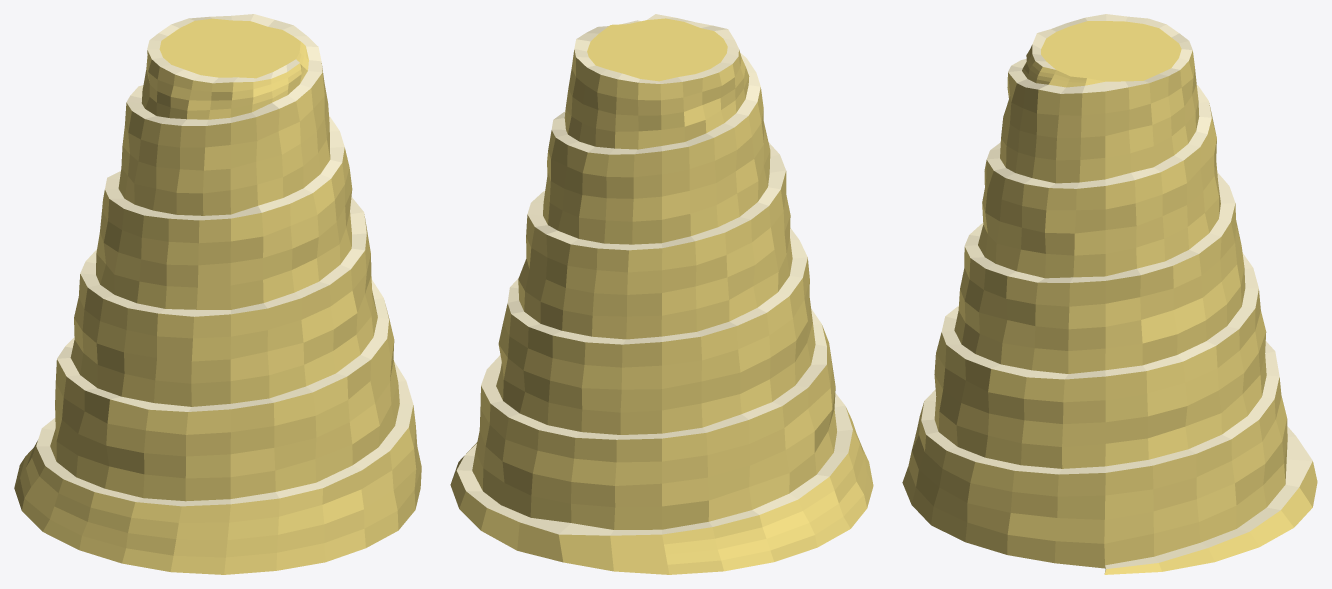
The model's file is mountain.fbx.
The picture shows the model from 3 angles, left to right: view 1: azimuth 30°, elevation 25°; view 2: azimuth 150°, elevation 25°; view 3: azimuth 270°, elevation 25°; orthographic projection.
Parts seen in each view (by area): view 1: mountain; view 2: mountain; view 3: mountain.
Boxes of the visible parts, x1,y1,x2,y2 form: mountain: (14, 14, 421, 574); mountain: (450, 14, 873, 574); mountain: (902, 14, 1317, 574).
Size of the model in its own units: 31639 by 35786 by 30656.
